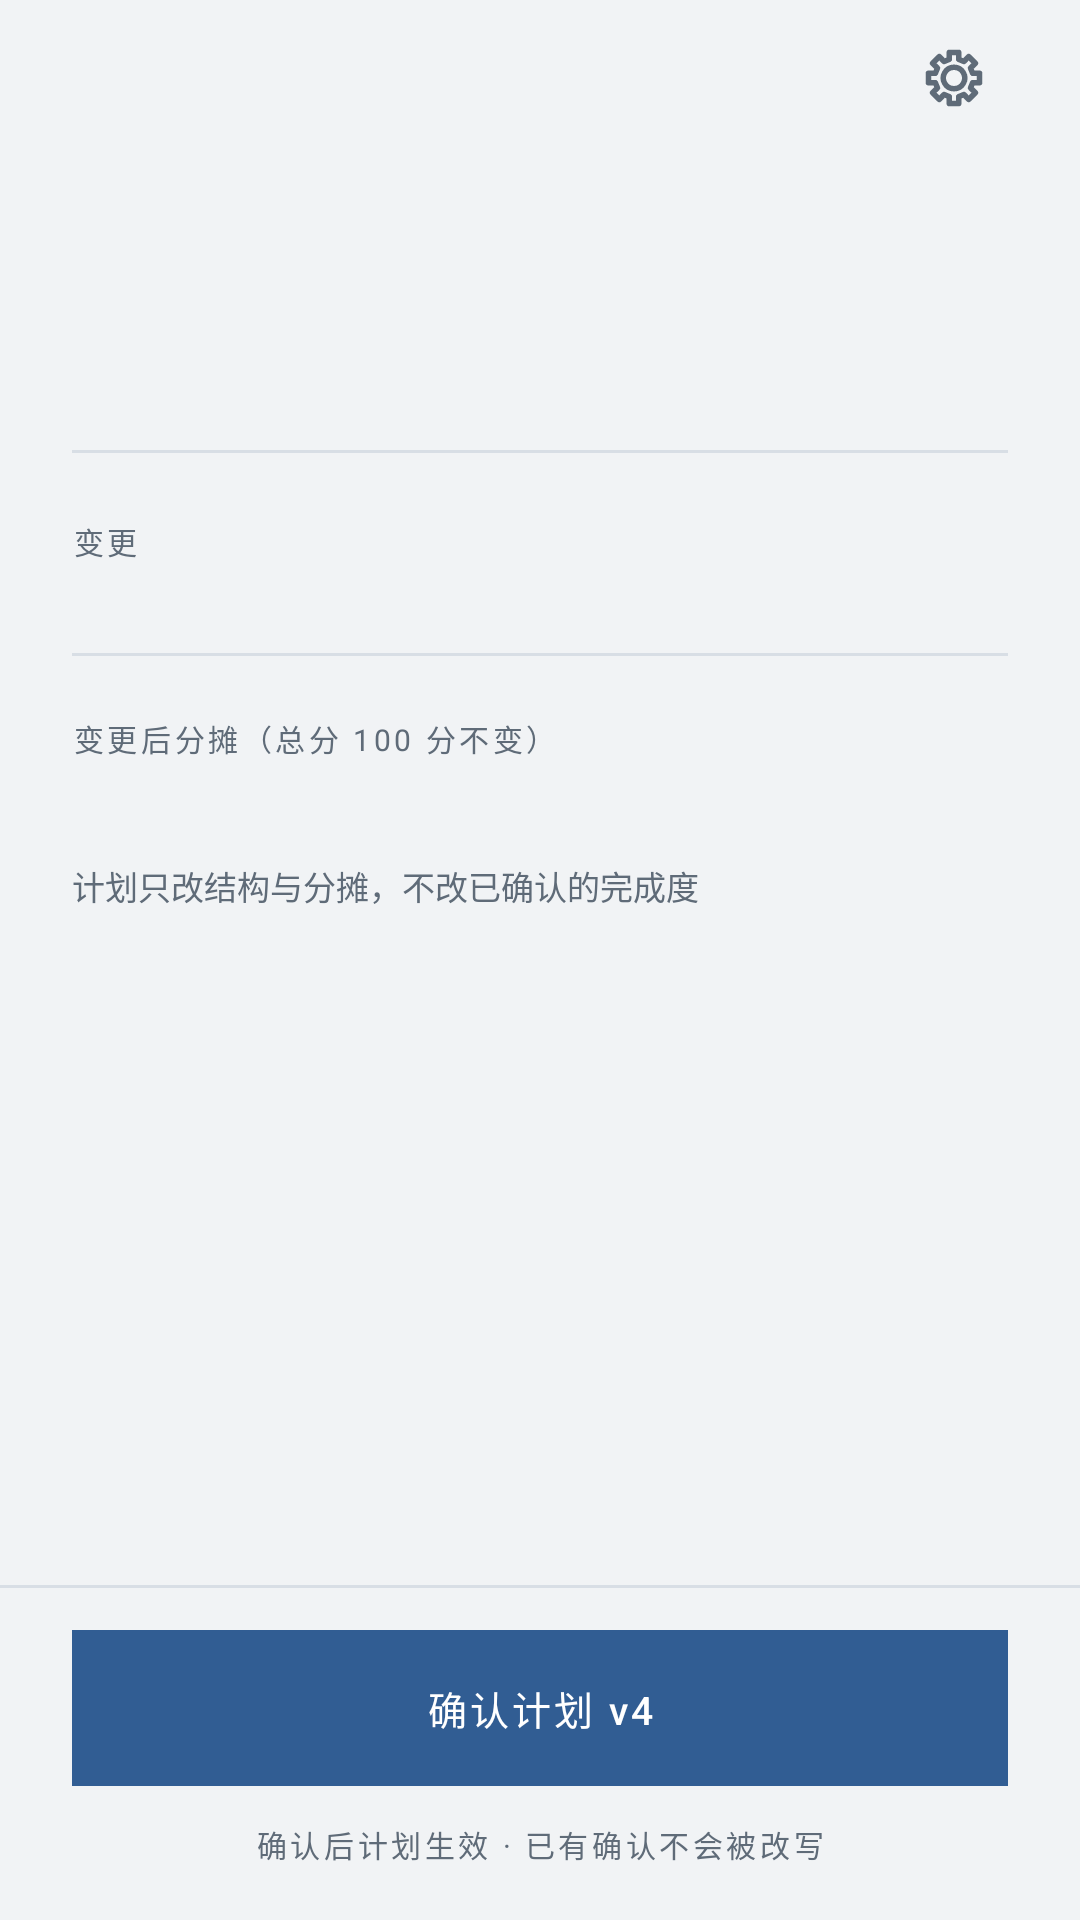

Named icons in this screenshot (1080x1920) and their bounding boxes, [left=x1, top=y1, right=x2, bottom=y2]:
设置: [left=925, top=49, right=983, bottom=107]
